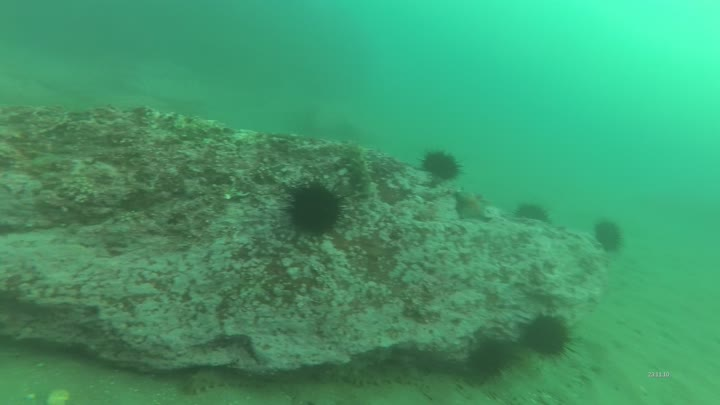echinus: (278, 180, 350, 245), (521, 312, 580, 363), (464, 333, 522, 378), (416, 147, 469, 185), (592, 215, 628, 258), (515, 198, 556, 232)
holothurian: (188, 365, 269, 397), (345, 144, 380, 202), (350, 361, 418, 387)
starfish: (454, 190, 495, 223)
